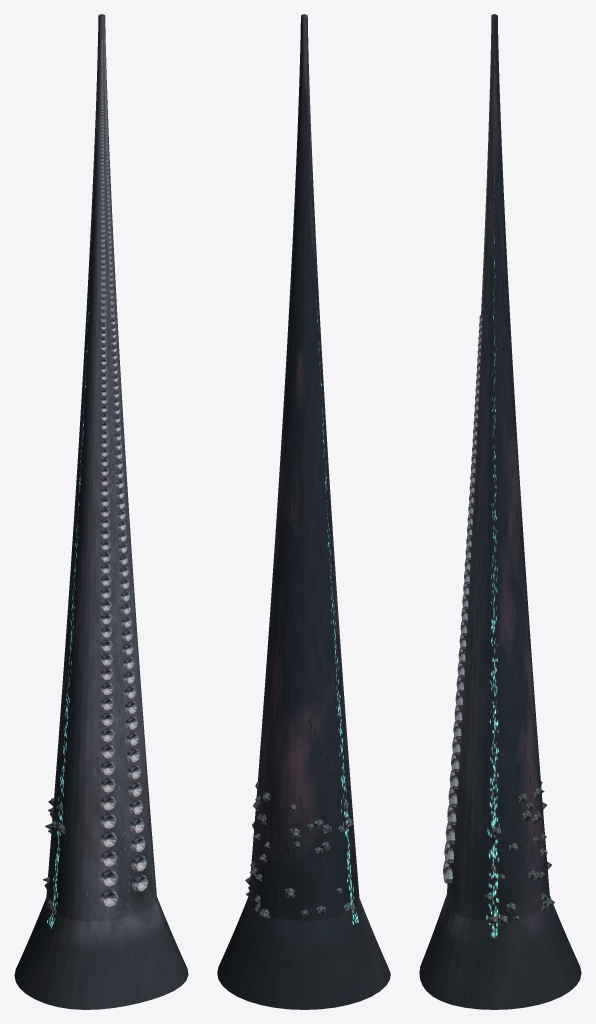
Rendered from kraken_tentacle_a.glb.
3 renders of one model, left to right at view 1: azimuth 30°, elevation 25°; view 2: azimuth 150°, elevation 25°; view 3: azimuth 270°, elevation 25°, orthographic.
Visible parts, largest first — view 1: geometry_0; view 2: geometry_0; view 3: geometry_0.
Part boxes in pixels (left/top/right/bottom): geometry_0: left=14, top=14, right=188, bottom=1009; geometry_0: left=217, top=14, right=390, bottom=1009; geometry_0: left=419, top=14, right=581, bottom=1009.
Bounding box in the file's own units: 2.51 × 15.23 × 2.33.
1 material, 1 textured.
